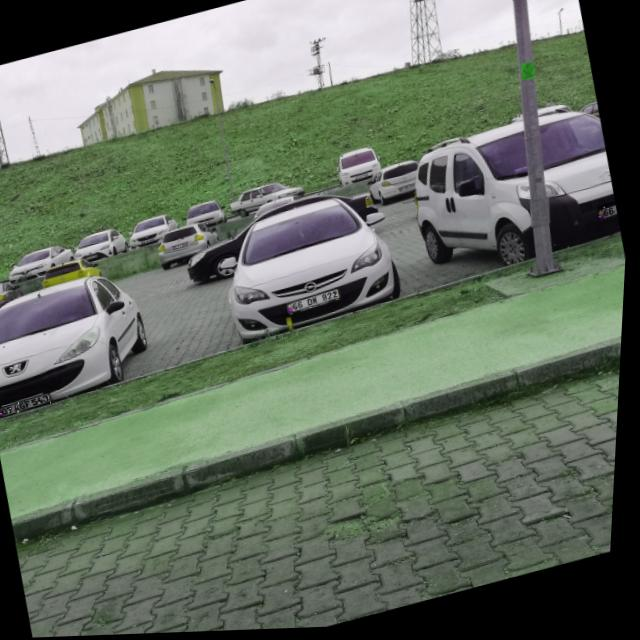license_plate: (289, 290, 345, 316), (0, 394, 56, 418), (599, 205, 620, 224)
